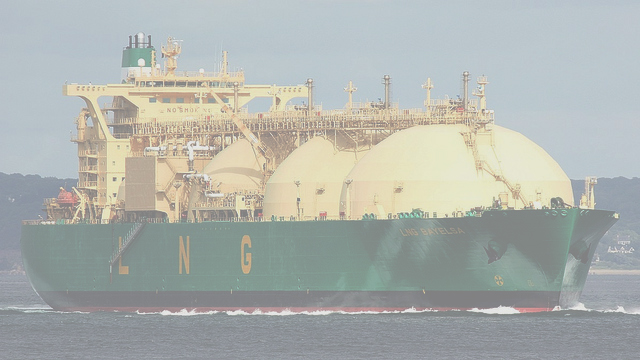LNG_ship: (21, 31, 622, 309)
